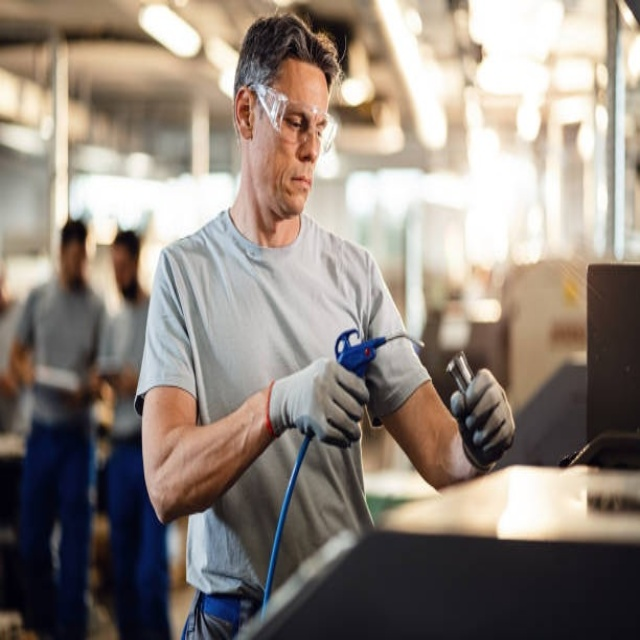Gafas: (249, 83, 337, 155)
Guantes: (266, 357, 368, 447), (451, 367, 515, 471)
Sin_mascara: (279, 165, 315, 210)
